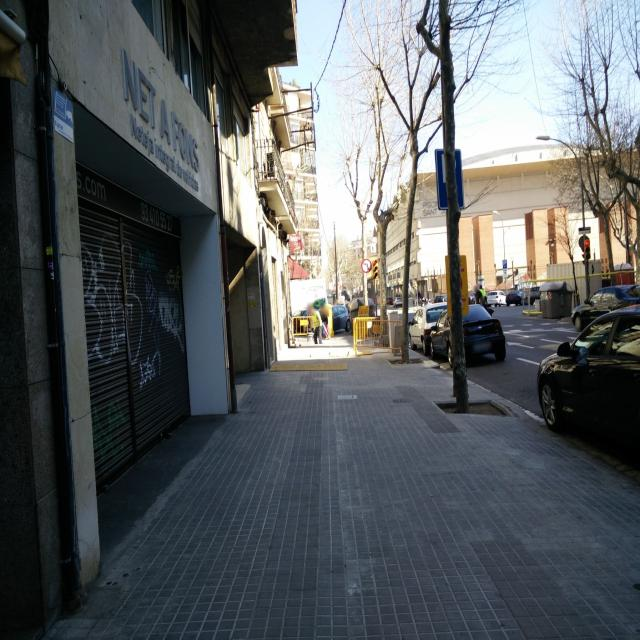car: (536, 299, 640, 485), (429, 302, 507, 364), (570, 283, 640, 328), (408, 303, 446, 354), (319, 302, 351, 334), (485, 290, 506, 306), (506, 288, 524, 305), (528, 285, 542, 302)
